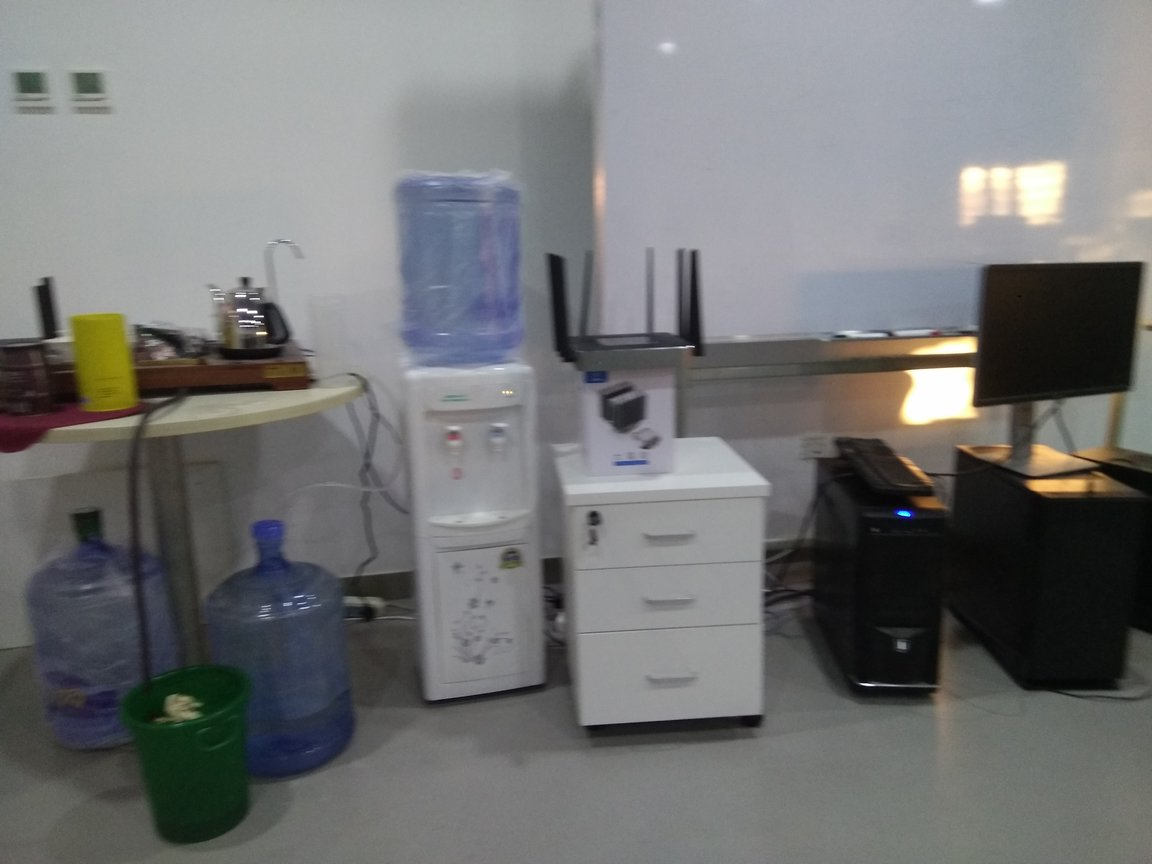computer: (952, 437, 1133, 700), (814, 450, 952, 708)
drawer chest: (556, 435, 772, 735)
monitor: (973, 258, 1150, 481)
scuttlebutt: (198, 516, 369, 780), (26, 509, 173, 761), (389, 157, 536, 366)
water dispenser: (396, 354, 547, 704)
